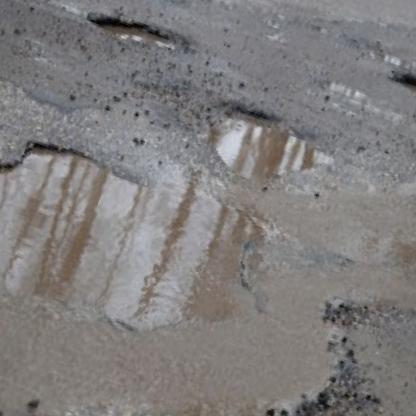pothole: (194, 90, 342, 202), (85, 2, 184, 62), (386, 54, 416, 127)
